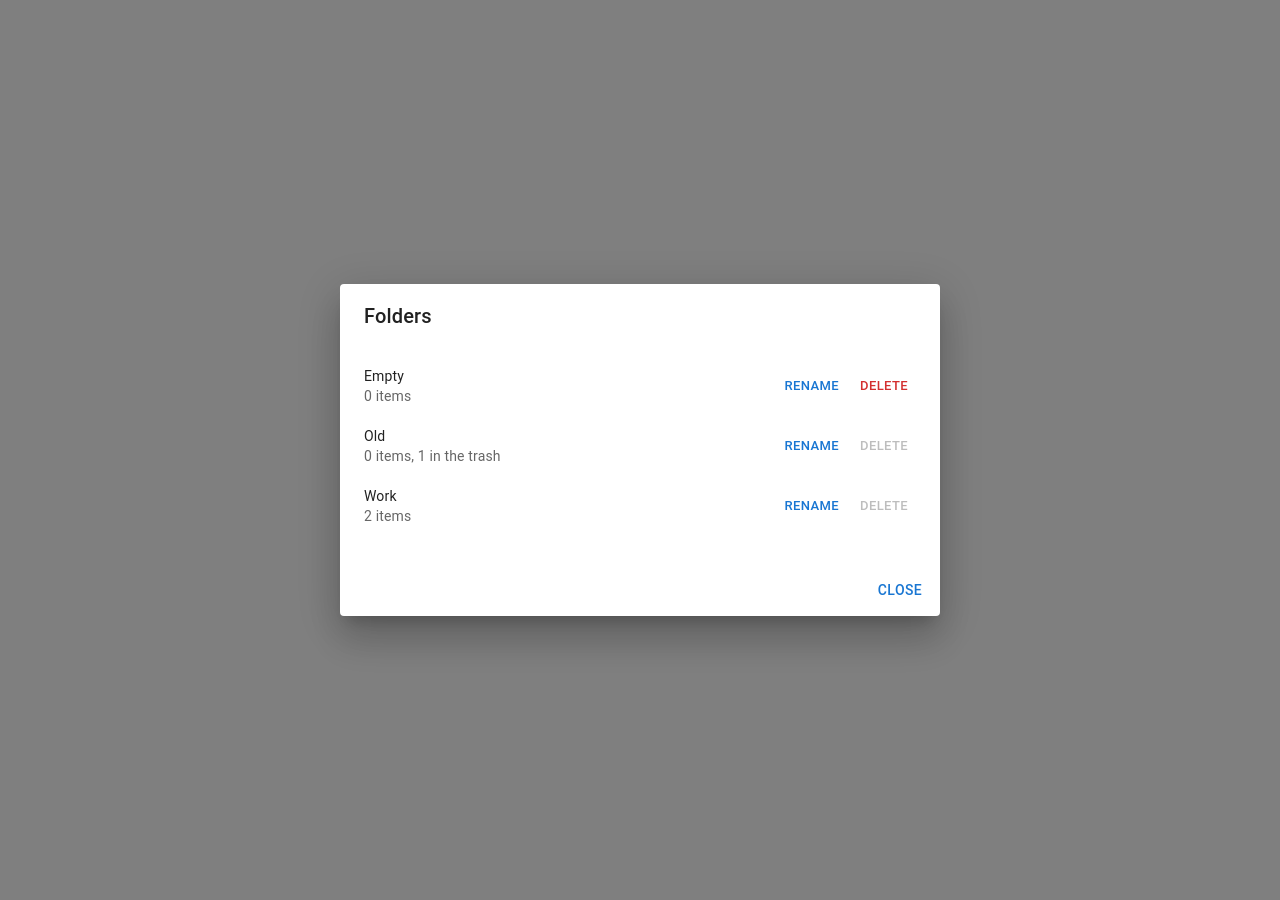
Cancel leaves the rename without queueing anything
Click the button "Rename" in the row of "Empty" at coordinates (812, 386), box [780,370,844,401]
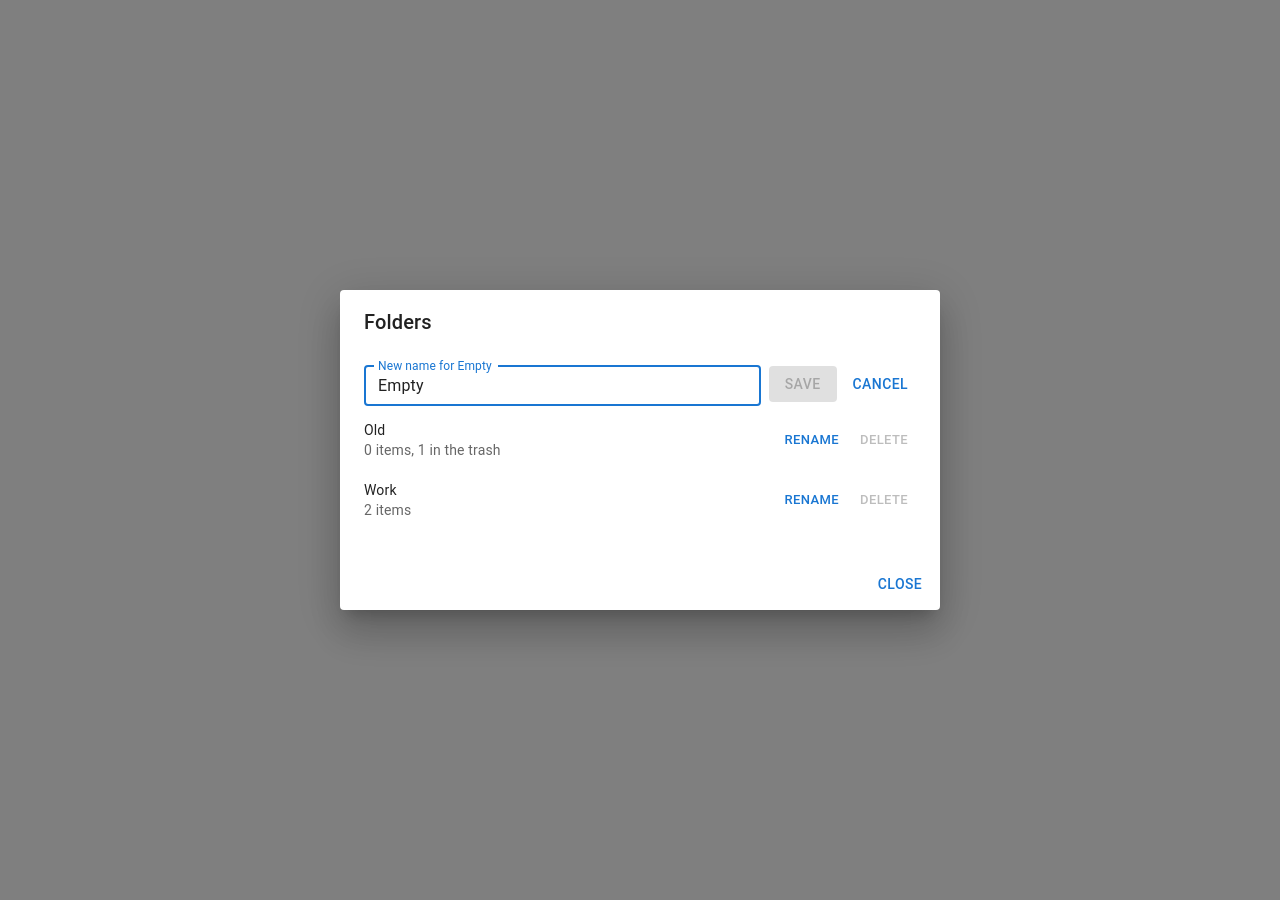
Click the button "Cancel" at coordinates (880, 384), box [844,366,916,402]
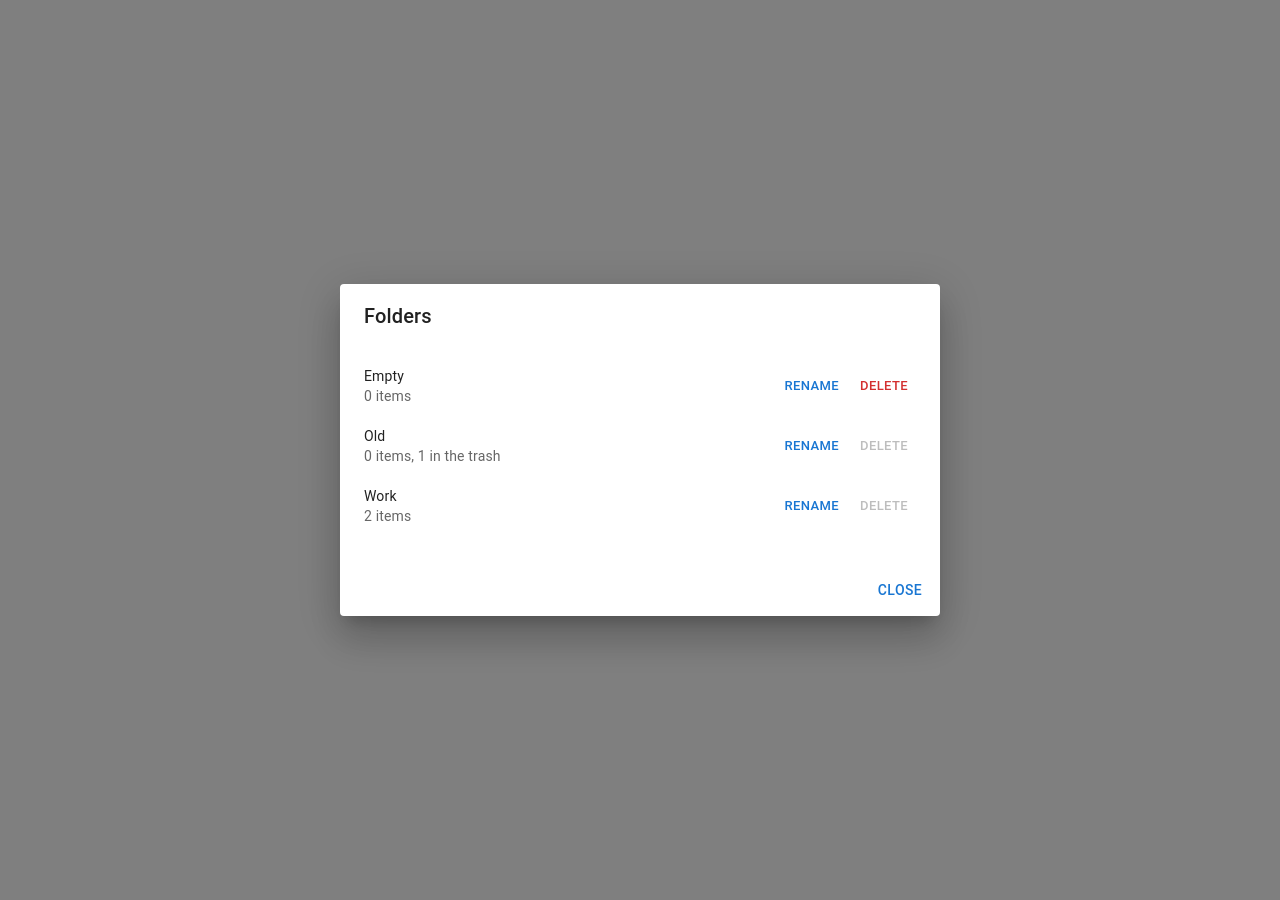
Check: the label labelled "New name for Empty" is gone
Check: the button "Rename" in the row of "Empty" is enabled, box [780,370,844,401]
